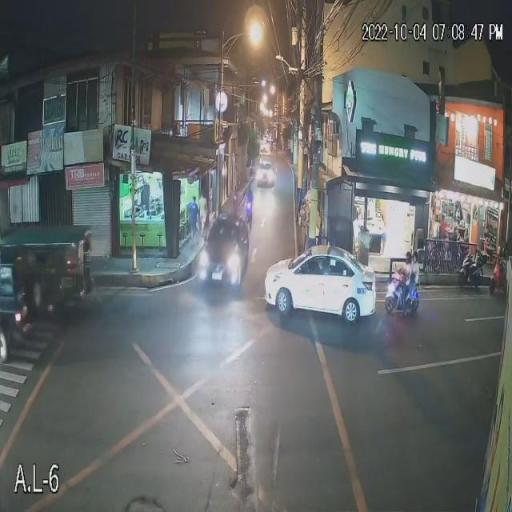helmet: (404, 250, 412, 263), (412, 251, 419, 264)
motorcycle: (384, 280, 426, 316)
rider: (400, 265, 412, 318), (410, 265, 420, 303)
